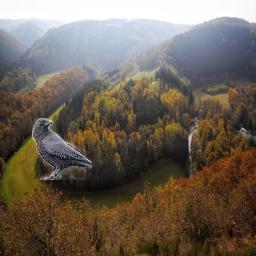Crow: (32, 118, 92, 180)
